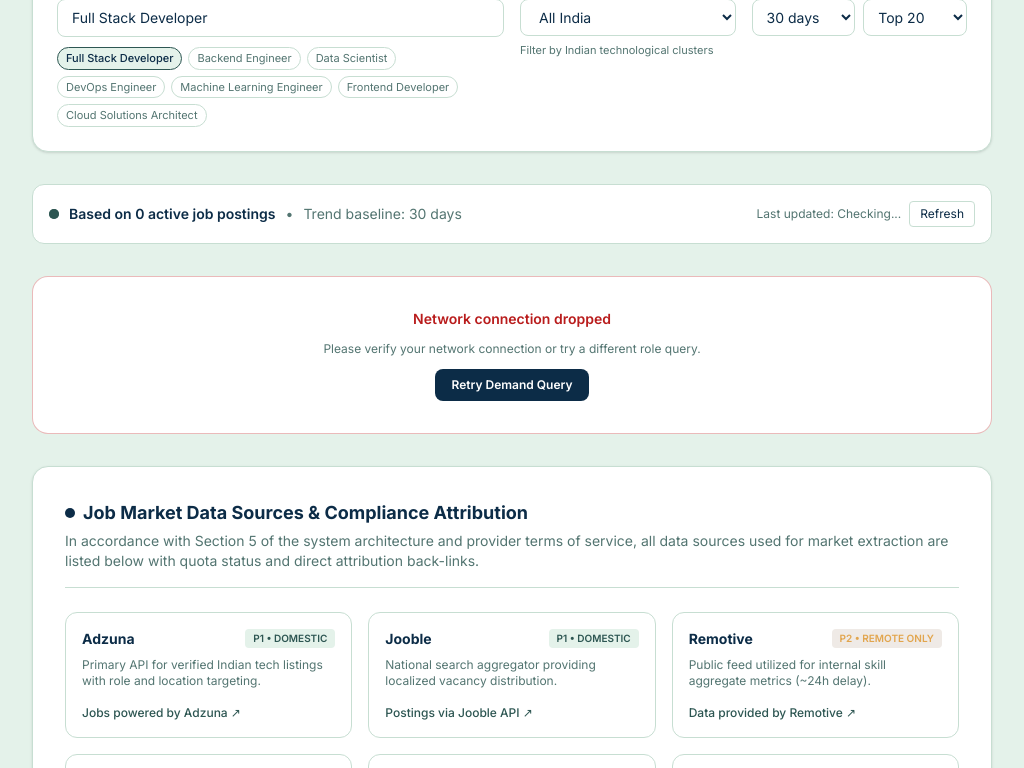
MarketDemandPage Component › handles error state and allows retry
The width and height of the screenshot is (1024, 768).
(page scrolled)
Expected: the text "Network connection dropped" is shown, x1=413 y1=310 x2=611 y2=326
Step 1. Click the button "Retry Demand Query" → (512, 384), box x1=436 y1=368 x2=589 y2=400
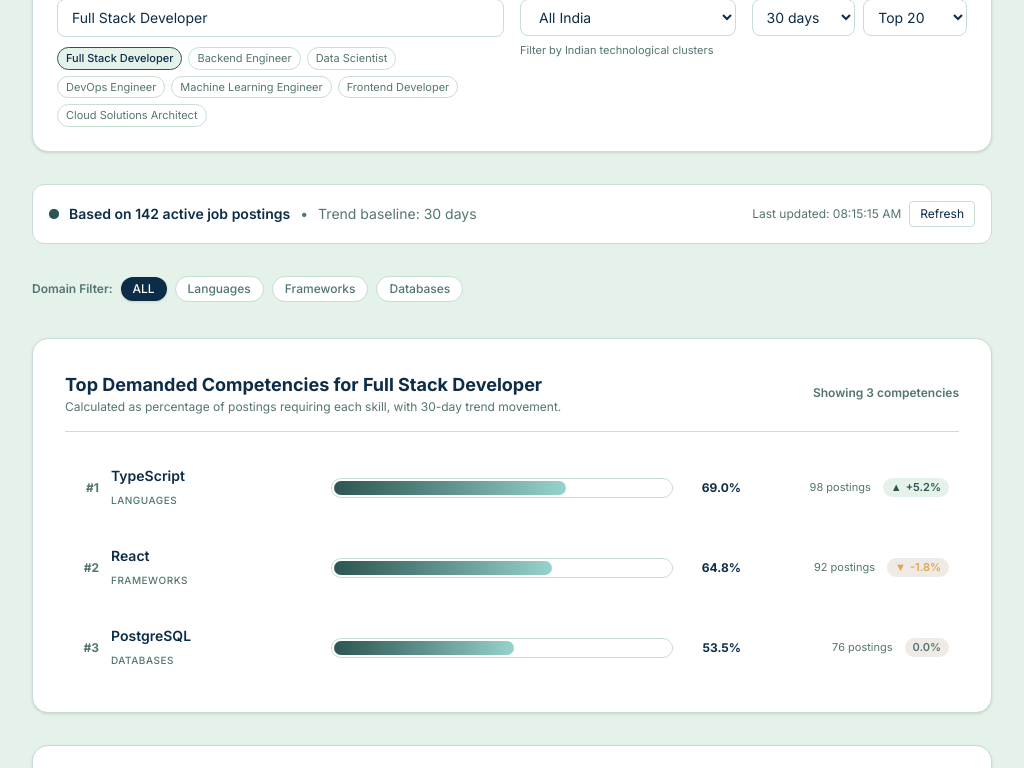
Expected: the text "TypeScript" is shown, x1=111 y1=466 x2=185 y2=484
